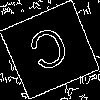C: (25, 25, 76, 81)
